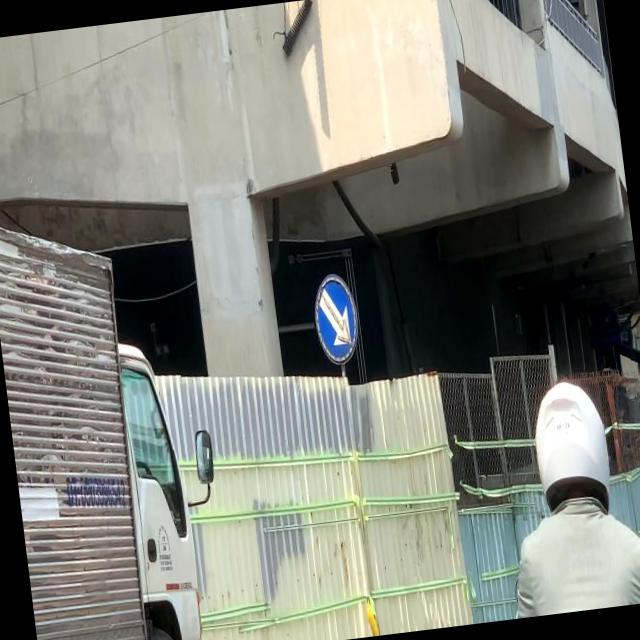R-302a: (310, 270, 362, 366)
